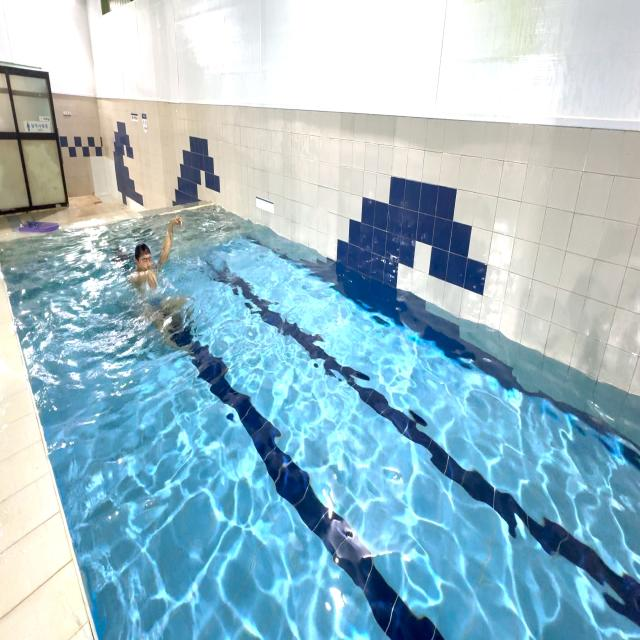Drowning: (98, 211, 216, 355)
